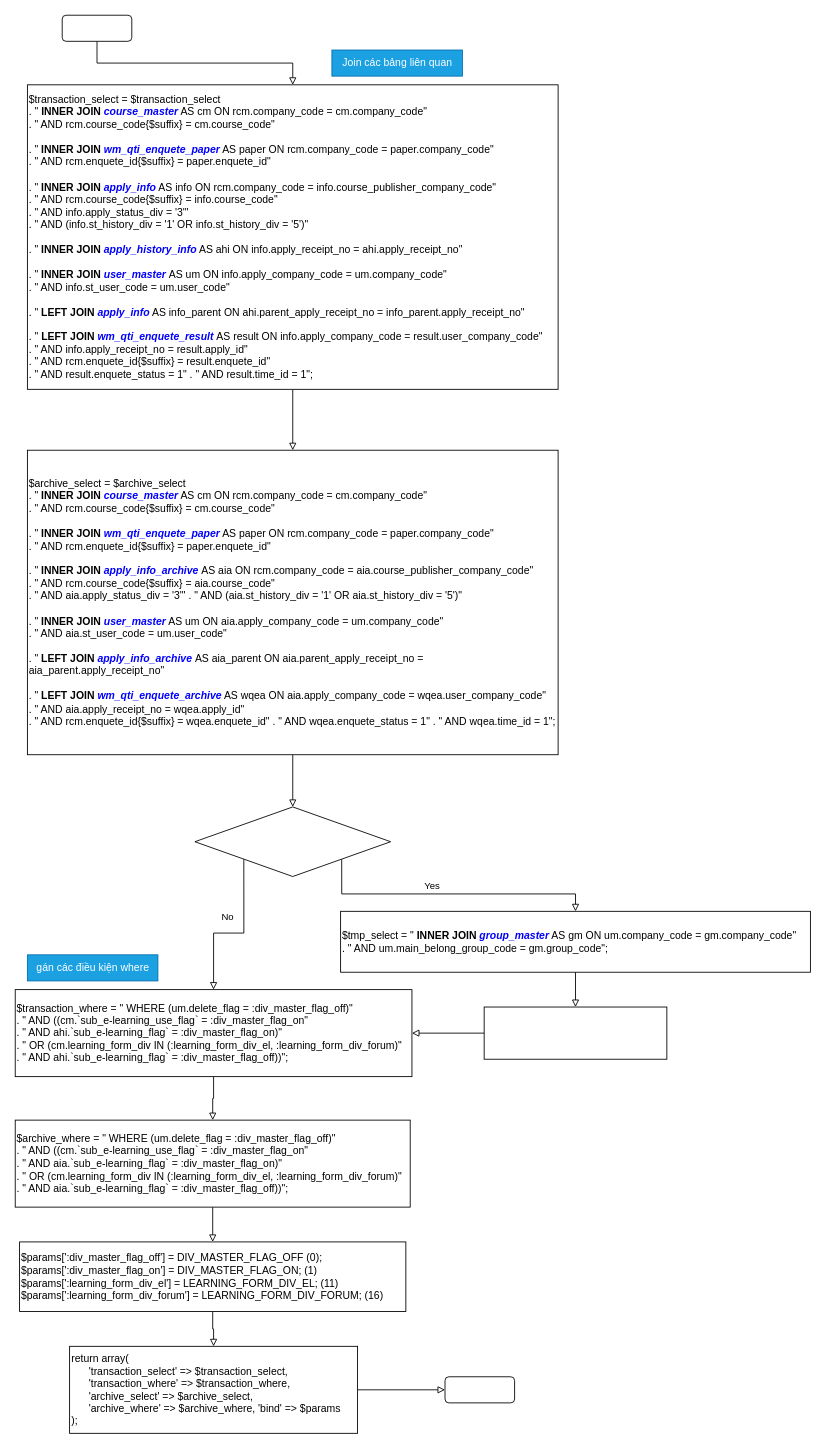
Some shapes in this 826 by 1449 pixel diagram are drawn without their labels. Here are the shapes that lost their labels. From the top down, the centre of each, then its label:
point (96, 27): Bắt đầu
point (292, 841): $this->_companyMode == 'KC'
point (575, 1032): $transaction_select .= $tmp_select; $archive_select .= $tmp_select;
point (479, 1389): Kết thúc
